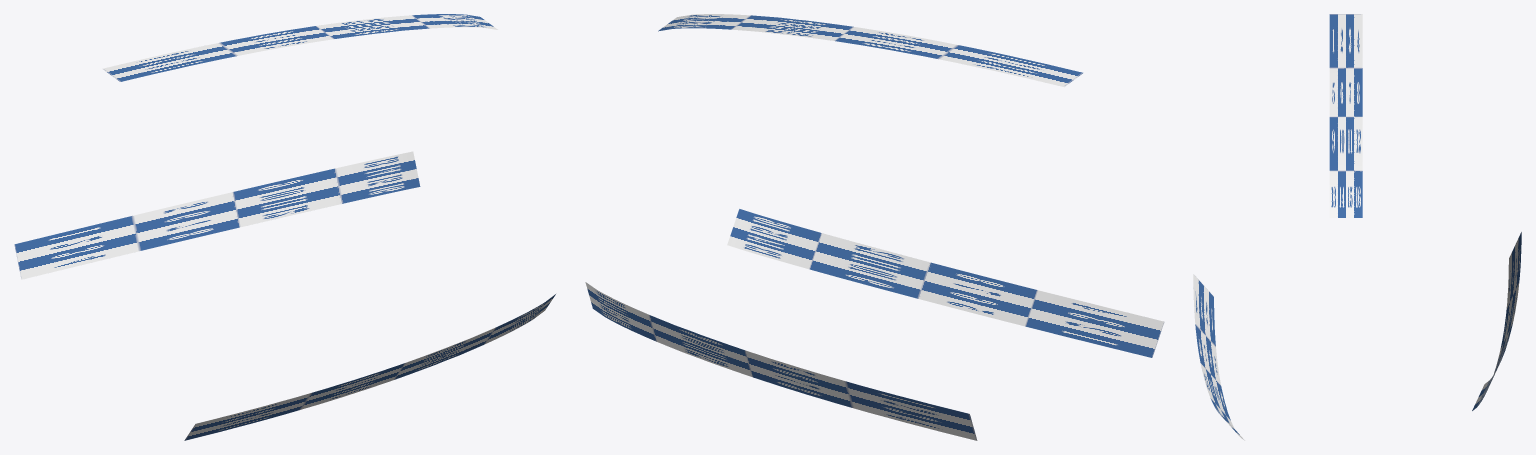
File: Enmu_Wind1.fbx
3 views of the same model, side by side, from view 1: azimuth 30°, elevation 25°; view 2: azimuth 150°, elevation 25°; view 3: azimuth 270°, elevation 25° (orthographic). The views are drawn at different scales.
Parts seen in each view (by area): view 1: SM_e_Plc_P1011_Wind001; view 2: SM_e_Plc_P1011_Wind001; view 3: SM_e_Plc_P1011_Wind001.
Part boxes in pixels (box(x1,y1,x2,y2)): SM_e_Plc_P1011_Wind001: box(14, 14, 555, 440); SM_e_Plc_P1011_Wind001: box(585, 14, 1164, 440); SM_e_Plc_P1011_Wind001: box(1193, 14, 1521, 440).
Size of the model in its own units: 114 by 89.8 by 94.51.
